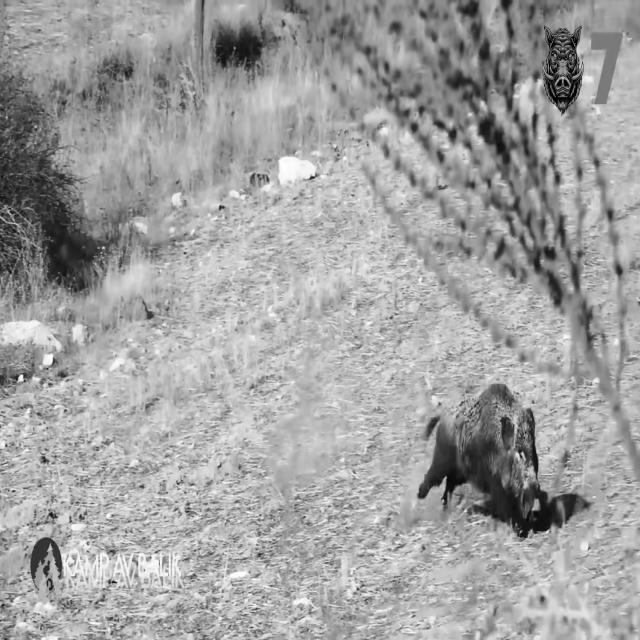boar: (417, 383, 576, 532)
